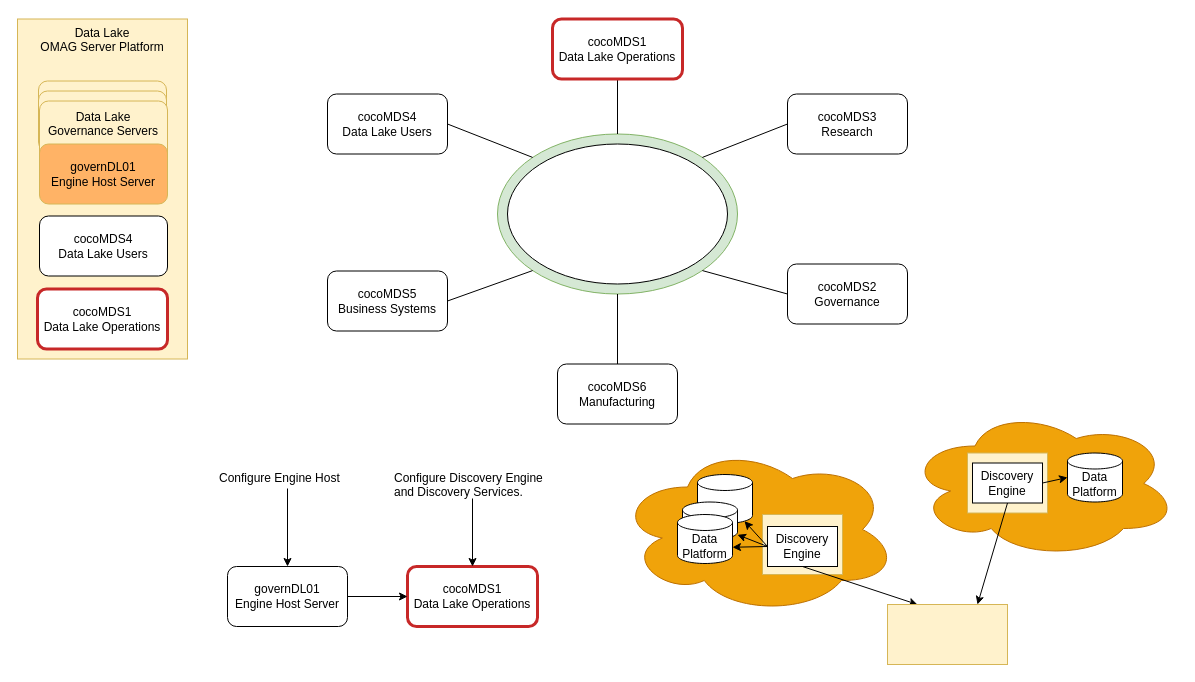
The diagram is 1195 pixels wide and 682 high, and some of its shapes have lost their labels. The centre of each missing label's shape, as x and y in pixels:
"cocoCohort" belongs at (x=617, y=213).
"Metadata Server" belongs at (x=947, y=634).
